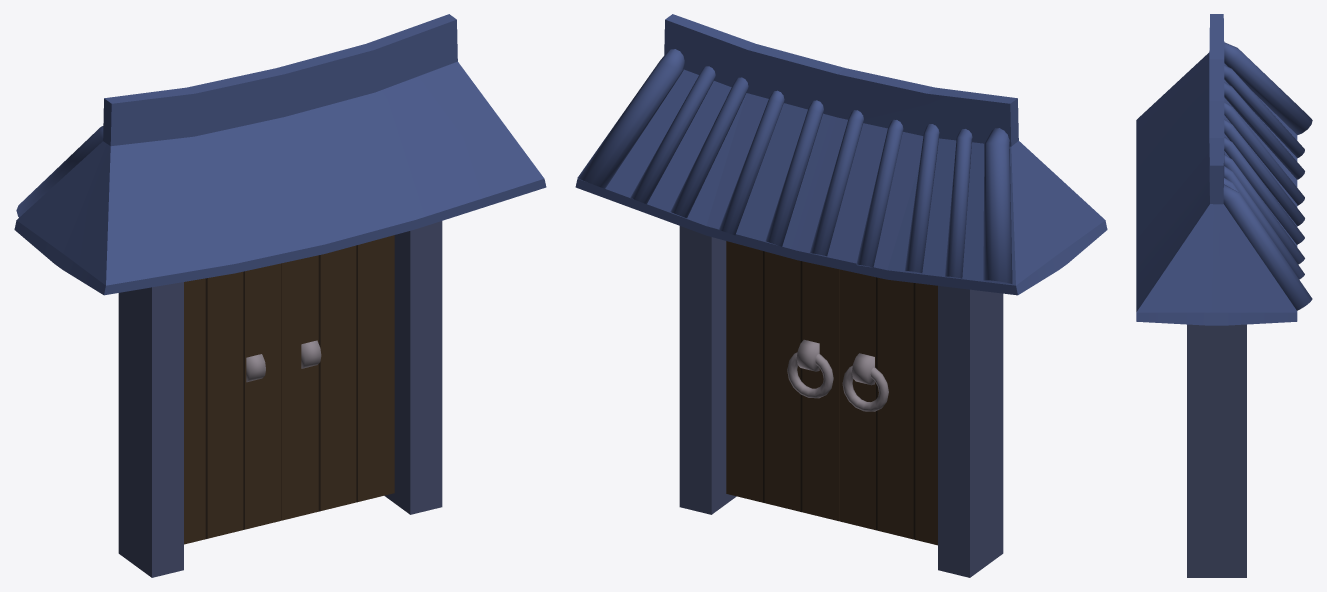
The model's file is Door.fbx.
3 views of the same model, side by side, from view 1: azimuth 30°, elevation 25°; view 2: azimuth 150°, elevation 25°; view 3: azimuth 270°, elevation 25° (orthographic). The views are drawn at different scales.
Parts seen in each view (by area): view 1: door, Leftdoor, Rightdoor; view 2: door, Leftdoor, Rightdoor; view 3: door.
Part boxes in pixels (left/top/right/bottom): door: left=14, top=14, right=546, bottom=577; Leftdoor: left=281, top=235, right=394, bottom=520; Rightdoor: left=184, top=263, right=281, bottom=544; door: left=575, top=14, right=1107, bottom=577; Leftdoor: left=726, top=241, right=839, bottom=521; Rightdoor: left=839, top=269, right=937, bottom=545; door: left=1136, top=14, right=1312, bottom=577.
Bounding box in the file's own units: 5.33 × 5.4 × 2.03.
